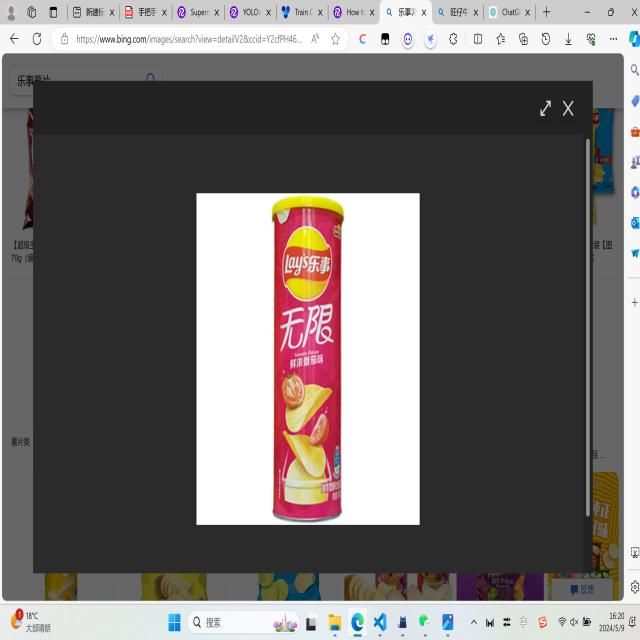lay-s_chip: (286, 226, 332, 303)
